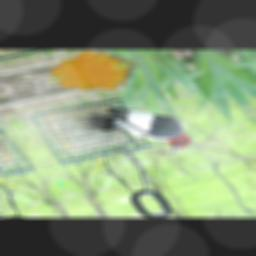Woodpecker: (71, 96, 199, 167)
